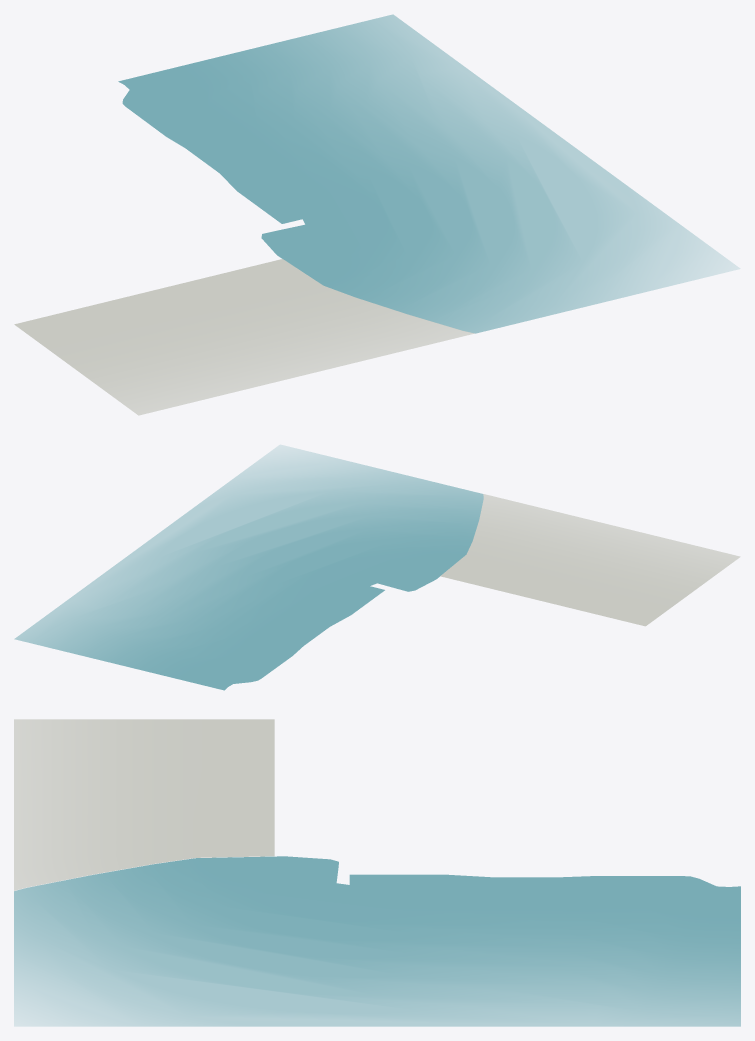
The picture shows the model from 3 angles, top to bottom: view 1: azimuth 30°, elevation 25°; view 2: azimuth 150°, elevation 25°; view 3: azimuth 270°, elevation 25°; orthographic projection. The views are drawn at different scales.
Parts seen in each view (by area): view 1: city; view 2: city; view 3: city.
Part boxes in pixels (x1,y1,x2,y2): city: (14, 14, 739, 415); city: (14, 445, 740, 690); city: (14, 719, 740, 1026).
Bounding box in the file's own units: 500 × 0.18 × 500.
